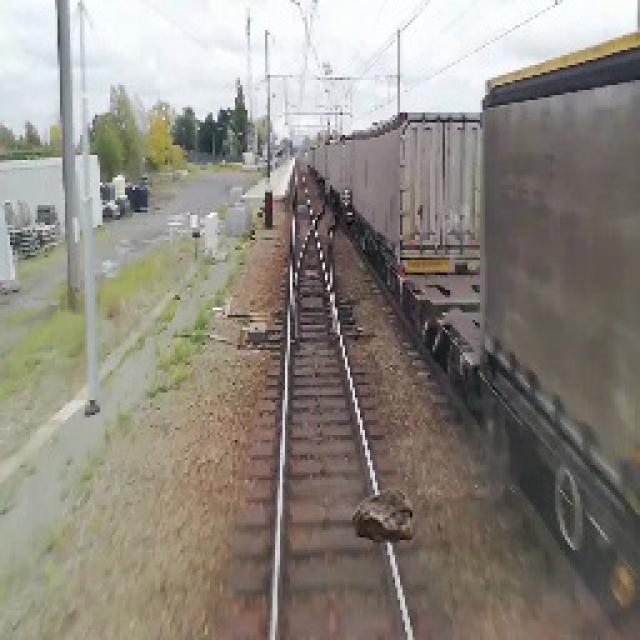danger: (348, 486, 421, 551)
rail: (235, 161, 460, 639)
